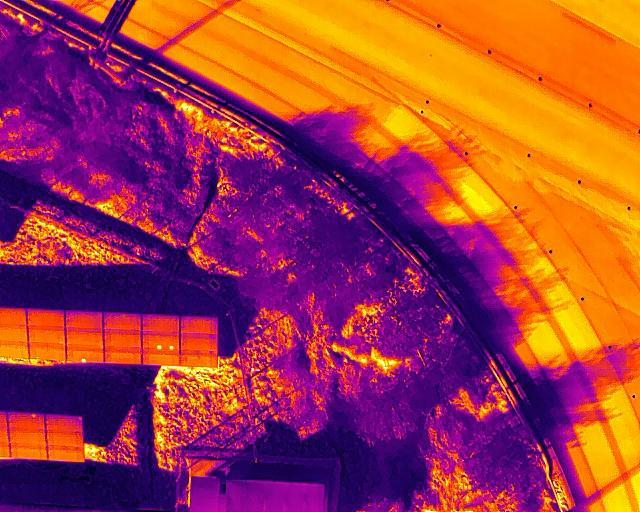Cell: (5, 412, 46, 430), (66, 348, 104, 363)
Cell-Multi: (141, 332, 181, 350)
No-Anomaly: (102, 313, 142, 332), (26, 308, 65, 327), (64, 330, 103, 349), (180, 333, 218, 352), (141, 315, 181, 333), (27, 326, 66, 344), (179, 316, 218, 334), (103, 332, 143, 349), (65, 313, 104, 330), (47, 445, 84, 462), (142, 349, 181, 365), (6, 430, 47, 445), (46, 415, 82, 432), (9, 444, 47, 460), (28, 343, 66, 359), (180, 350, 217, 366), (103, 349, 142, 364), (47, 432, 84, 445)
